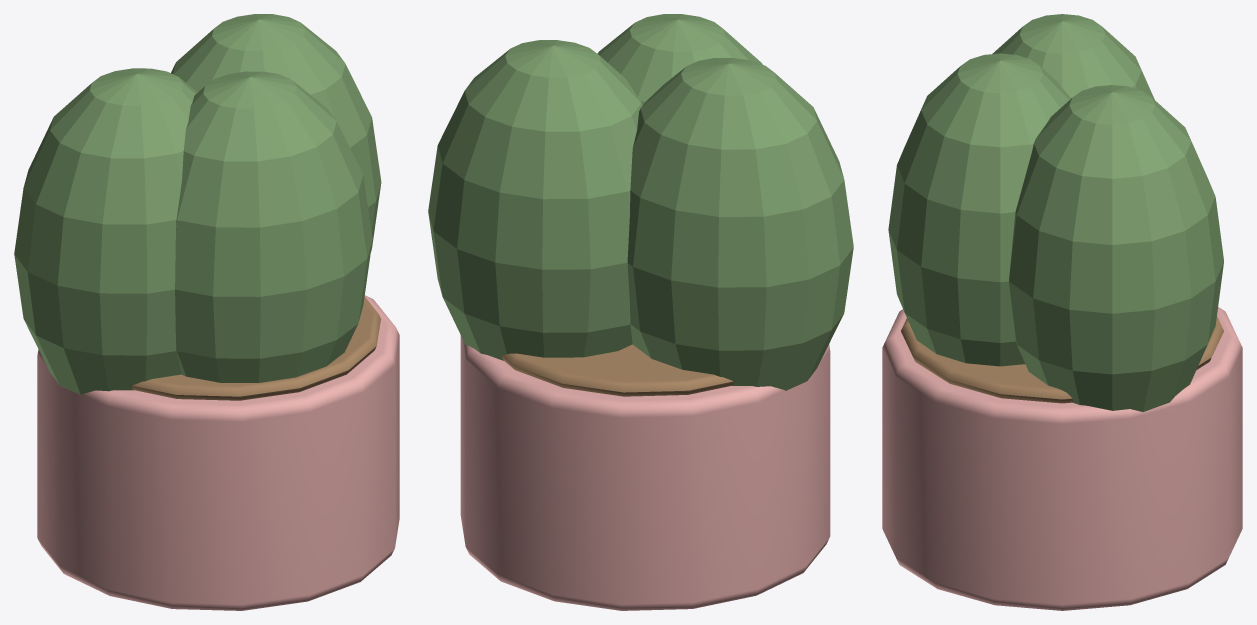
File: planter.glb
3 renders of one model, left to right at view 1: azimuth 30°, elevation 25°; view 2: azimuth 150°, elevation 25°; view 3: azimuth 270°, elevation 25°, orthographic. The views are drawn at different scales.
Visible parts, largest first — view 1: Pot, Leaf.002, Leaf, Leaf.001, Soil; view 2: Pot, Leaf, Leaf.001, Leaf.002, Soil; view 3: Pot, Leaf.001, Leaf.002, Leaf, Soil.
Boxes of the visible parts, box(x1,y1,x2,y2) form: Pot: box(37, 295, 399, 610); Leaf.002: box(175, 71, 372, 382); Leaf: box(14, 68, 197, 394); Leaf.001: box(171, 14, 381, 252); Soil: box(132, 297, 380, 400); Pot: box(460, 335, 830, 610); Leaf: box(627, 58, 853, 390); Leaf.001: box(428, 40, 642, 360); Leaf.002: box(597, 14, 762, 104); Soil: box(502, 344, 733, 396); Pot: box(882, 307, 1242, 610); Leaf.001: box(1009, 85, 1223, 411); Leaf.002: box(888, 53, 1070, 366); Leaf: box(992, 14, 1154, 99); Soil: box(901, 316, 1223, 403).
Bounding box in the file's own units: 0.67 × 0.85 × 0.58.
